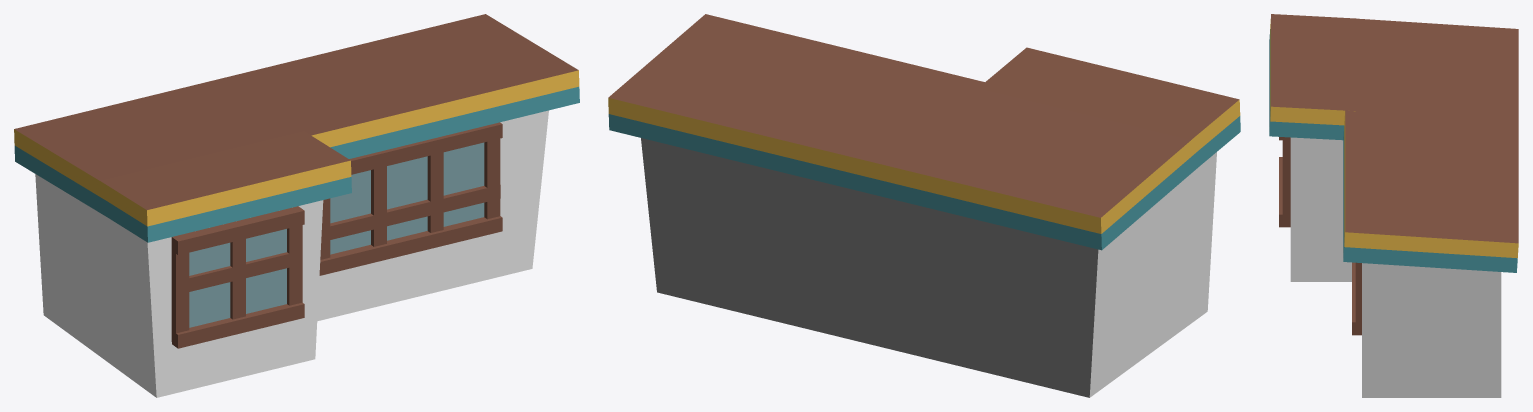
File: Stall.fbx
3 views of the same model, side by side, from view 1: azimuth 30°, elevation 25°; view 2: azimuth 150°, elevation 25°; view 3: azimuth 270°, elevation 25° (orthographic). The views are drawn at different scales.
Visible parts, largest first — view 1: Stall; view 2: Stall; view 3: Stall.
Part boxes in pixels (<box>): Stall: <box>14,14,579,397</box>; Stall: <box>608,14,1240,397</box>; Stall: <box>1269,14,1518,397</box>.
Bounding box in the file's own units: 1290 × 524 × 635.
